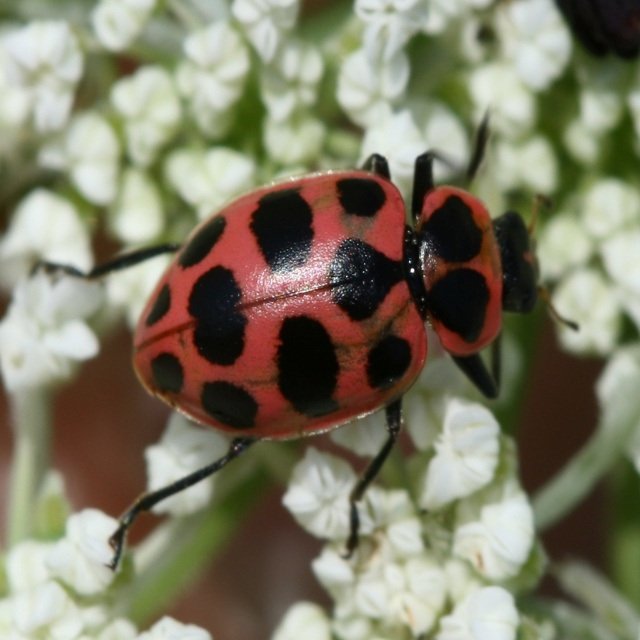Ladybug: (31, 105, 579, 573)
